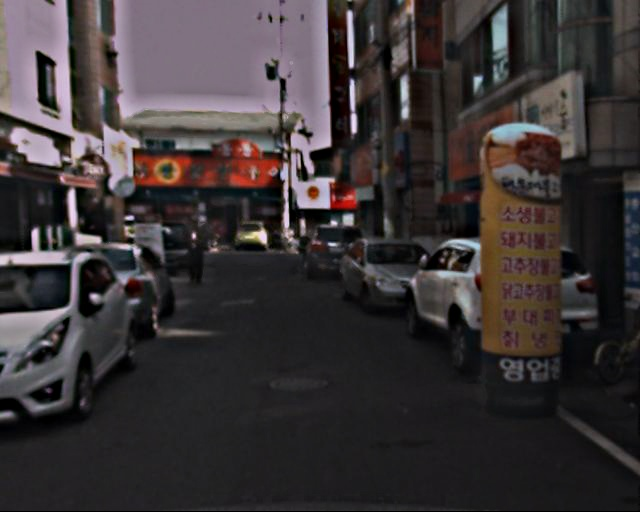person: (181, 215, 211, 283)
